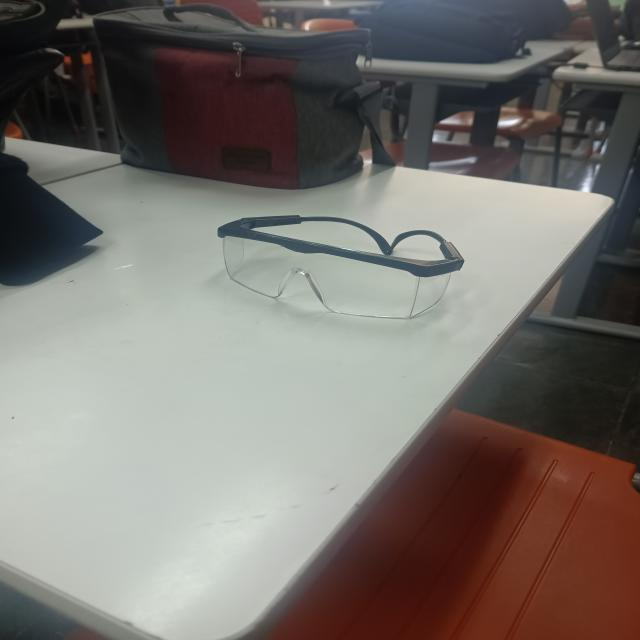oculos-epi: (218, 215, 464, 319)
